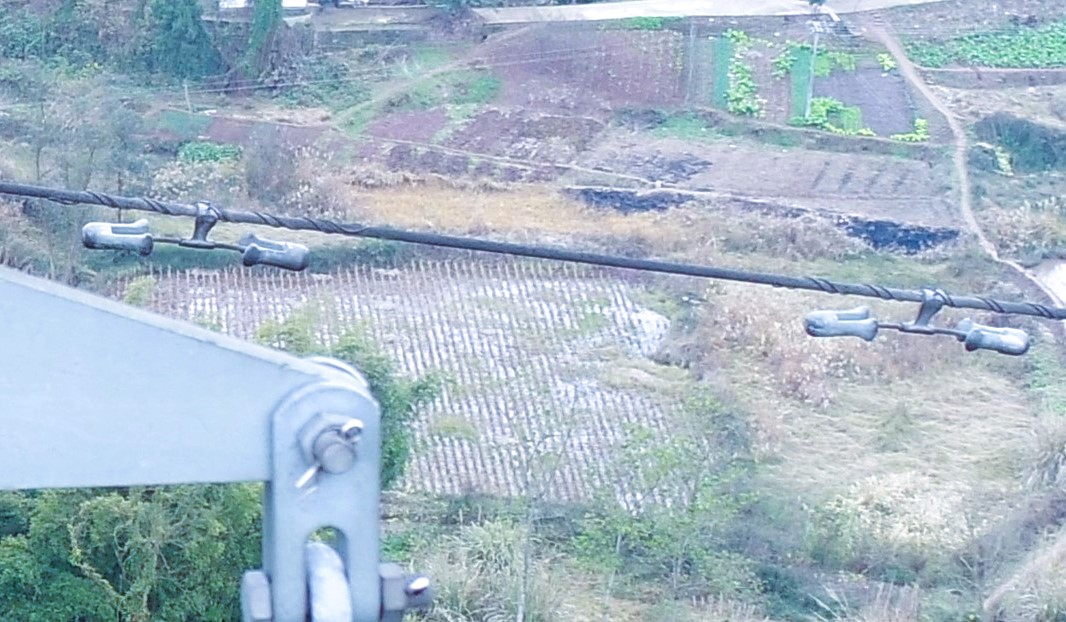Shockproof hammer: (72, 186, 322, 286), (787, 267, 1043, 364)
